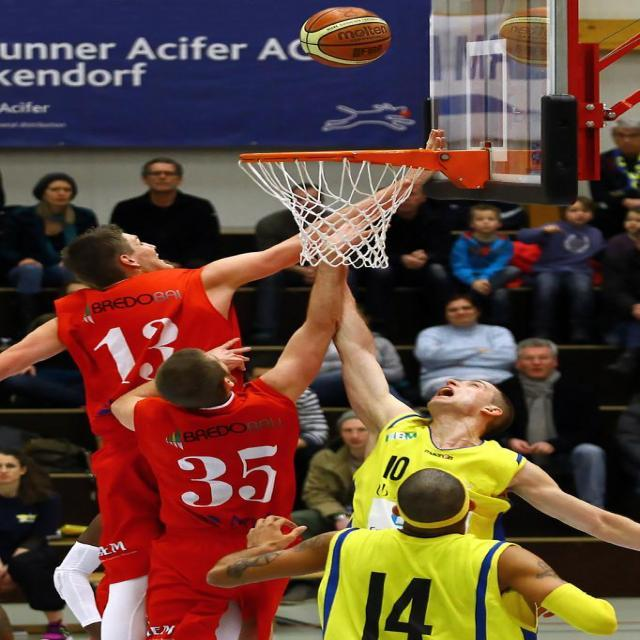rim: (300, 8, 390, 69), (500, 14, 555, 64)
